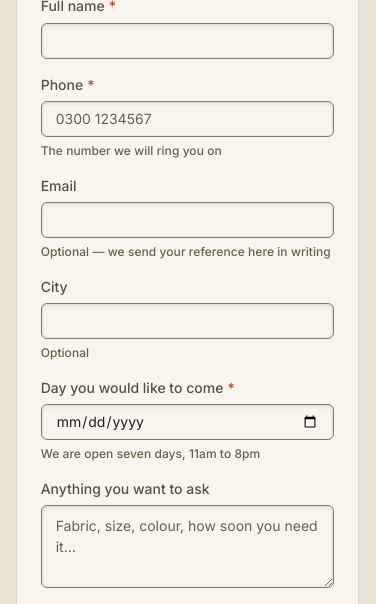
Scenario: sending an enquiry › accepts no email, and rejects a broken one
(page scrolled)
Step 1. Type "not-an-email" into the field named "email" → (187, 220), box [41,202,334,238]
(page scrolled)
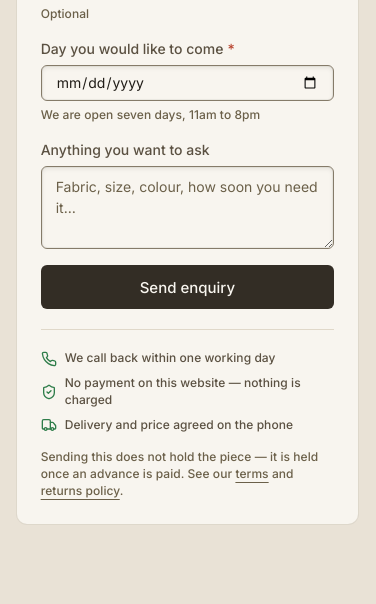
Step 2. Click the button "Send enquiry" → (187, 287), box [41,265,334,309]
(page scrolled)
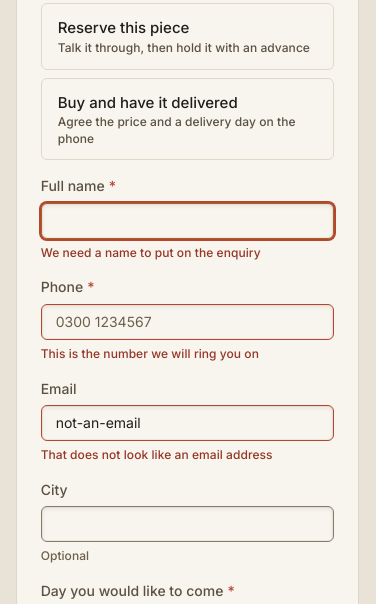
Check: the text "That does not look like an email address" is shown, box [41,447,273,462]
